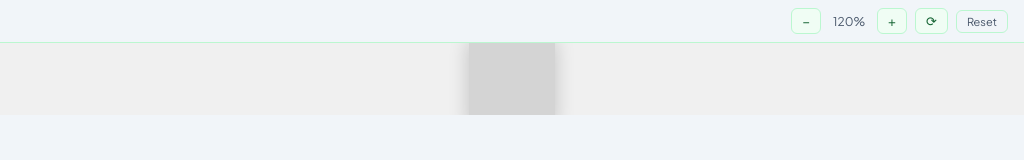
Test: SecureDocViewer — image › clic + augmente le zoom
What coordinates should you click on to do the following:
click the button "+"
I would click on:
 (892, 21)
Its box is [877,8,907,34].
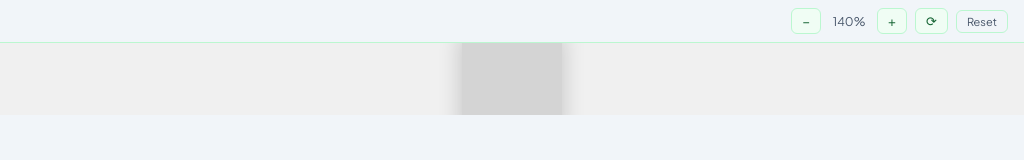
Result: the text "120%" is gone
